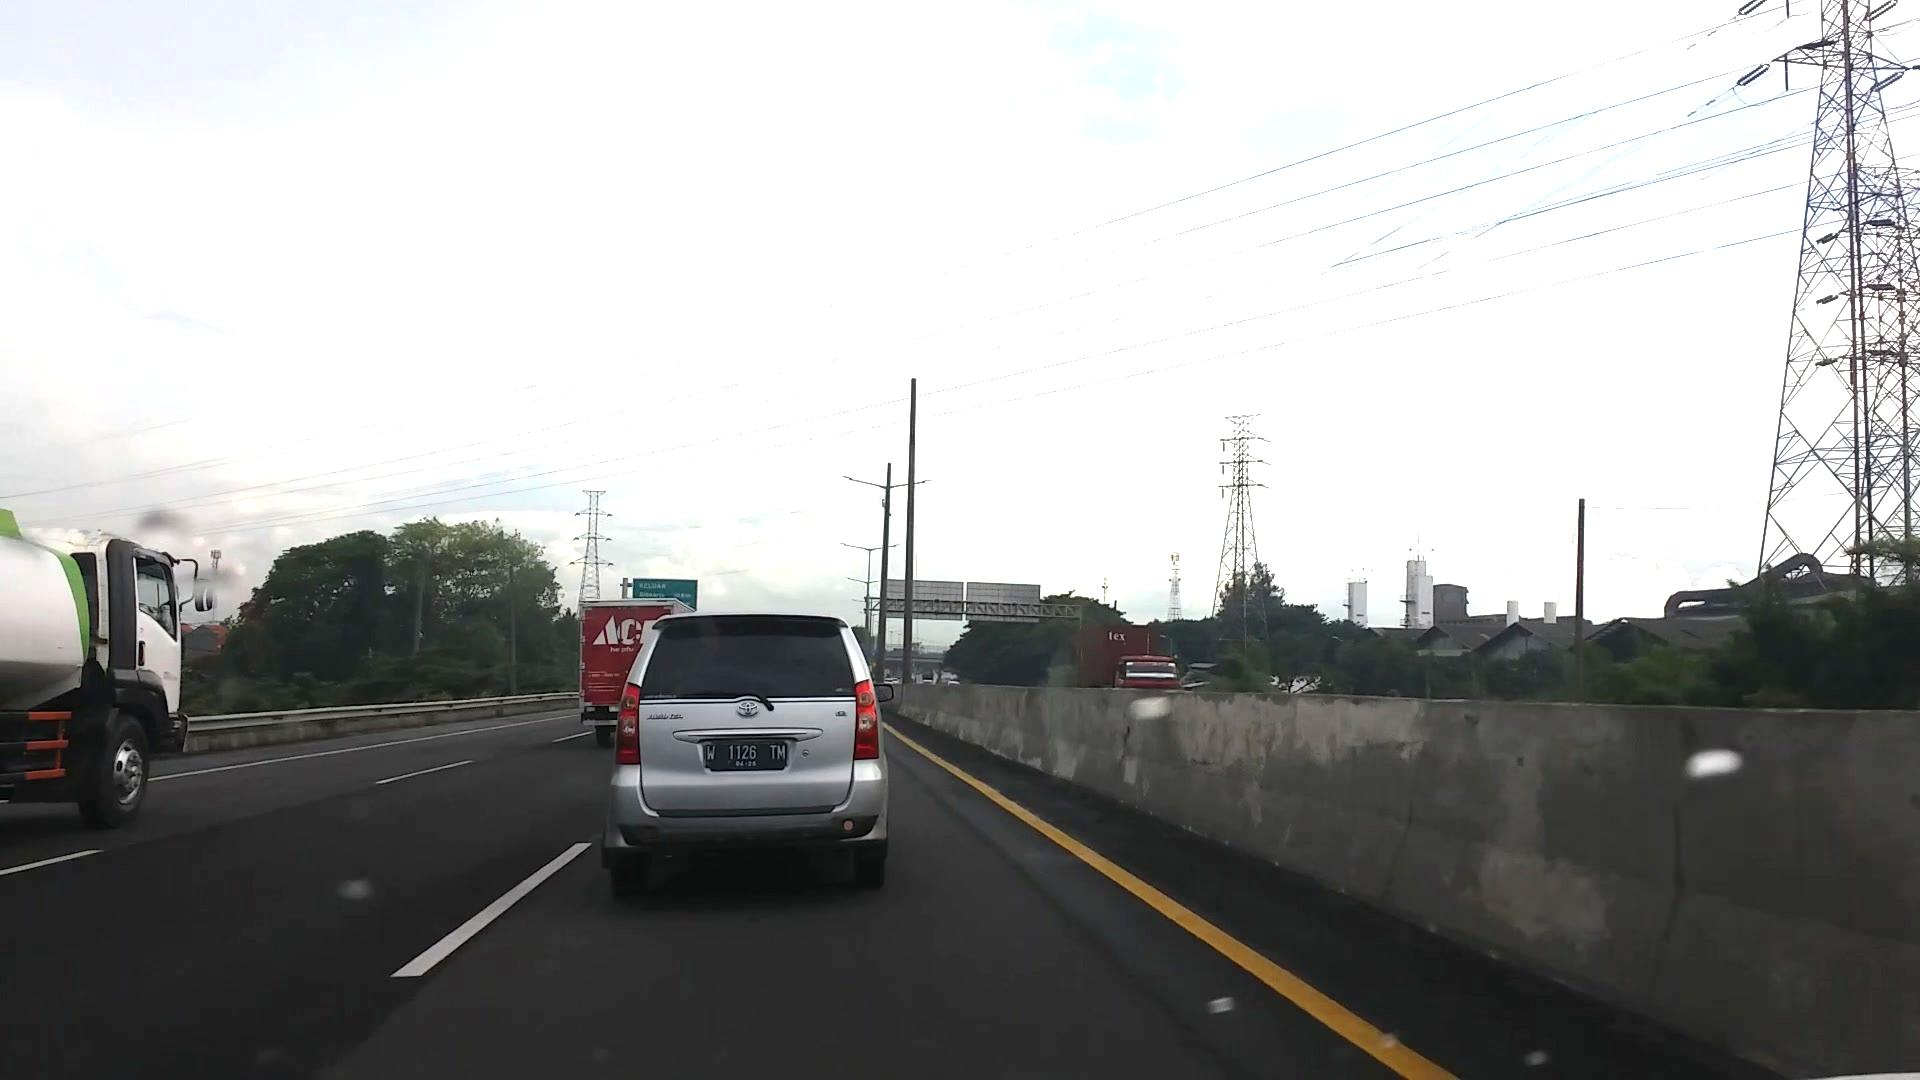plate_positive: (703, 740, 787, 771)
